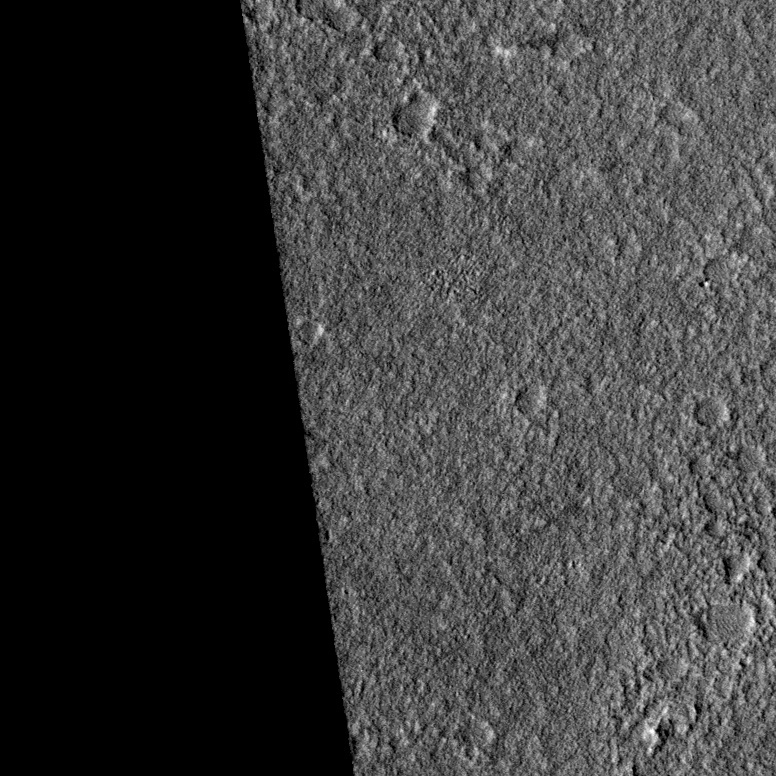dust_devil: (494, 28, 567, 61)
